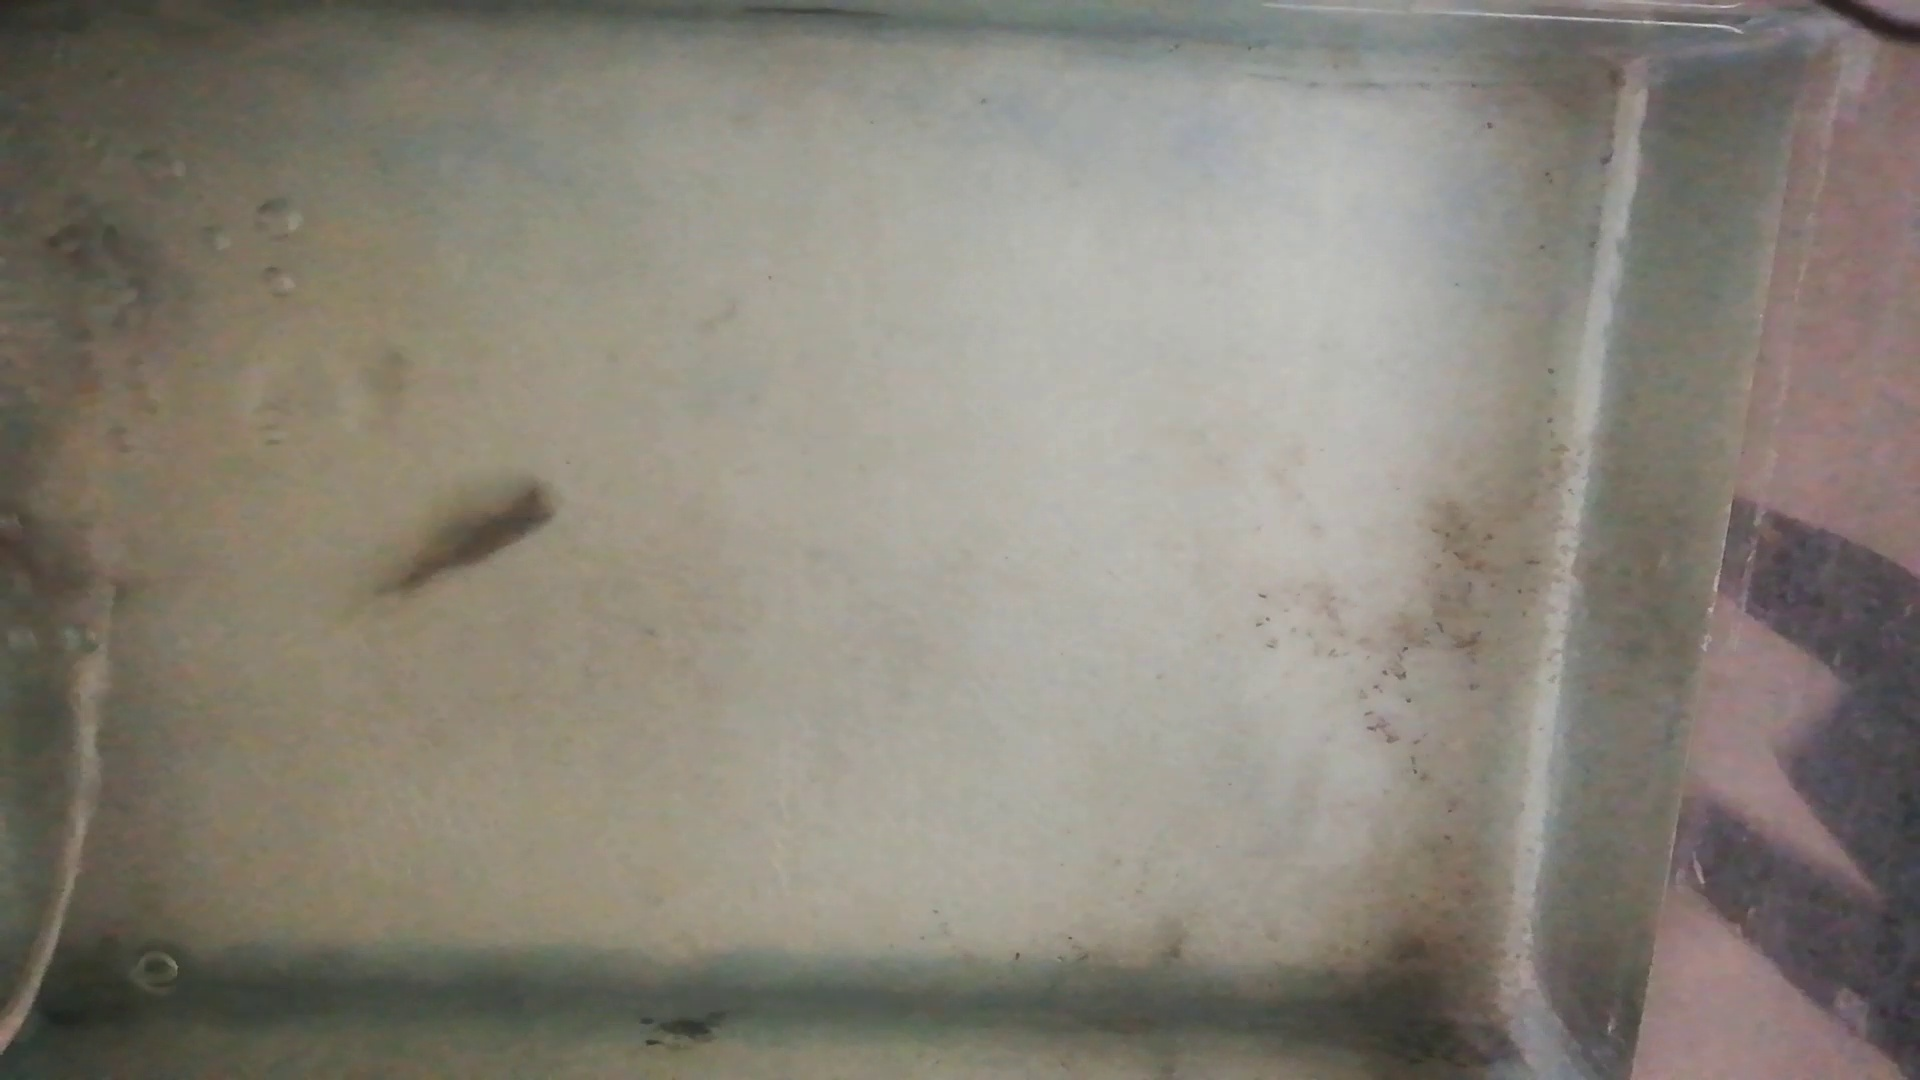fish: (385, 483, 563, 597), (3, 522, 138, 611)
